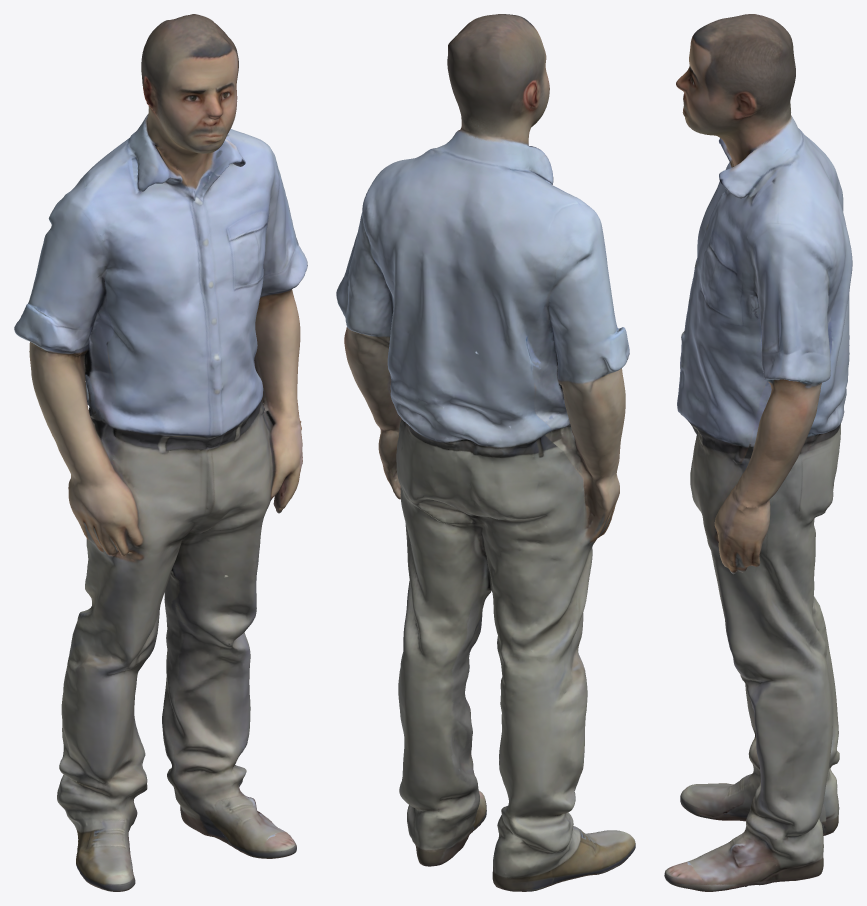
The model's file is PS1_low_poly_male_cl_0723010852_texture.fbx.
3 views of the same model, side by side, from view 1: azimuth 30°, elevation 25°; view 2: azimuth 150°, elevation 25°; view 3: azimuth 270°, elevation 25° (orthographic).
Parts seen in each view (by area): view 1: Mesh_0; view 2: Mesh_0; view 3: Mesh_0.
Boxes of the visible parts, bbox=[...] form: Mesh_0: bbox=[14, 14, 307, 891]; Mesh_0: bbox=[336, 14, 635, 891]; Mesh_0: bbox=[664, 14, 852, 891].
Size of the model in its own units: 72.32 by 200 by 40.5.
Materials: 1 (1 with a texture image).
